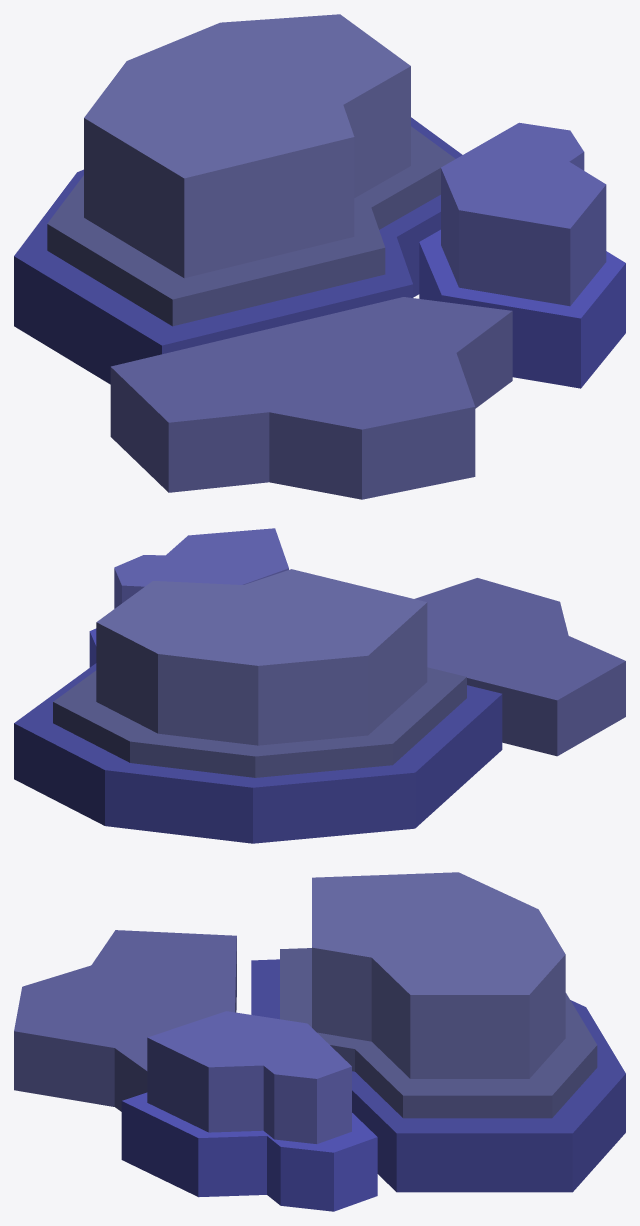
File: NC_Stone04.fbx
The picture shows the model from 3 angles, top to bottom: view 1: azimuth 30°, elevation 25°; view 2: azimuth 150°, elevation 25°; view 3: azimuth 270°, elevation 25°; orthographic projection. The views are drawn at different scales.
Parts seen in each view (by area): view 1: NC_Stone04; view 2: NC_Stone04; view 3: NC_Stone04.
Boxes of the visible parts, box(x1,y1,x2,y2) form: NC_Stone04: box(14, 14, 625, 499); NC_Stone04: box(14, 528, 625, 843); NC_Stone04: box(14, 872, 625, 1211).
Size of the model in its own units: 70.99 by 24.63 by 82.46.
1 material, 1 textured.
